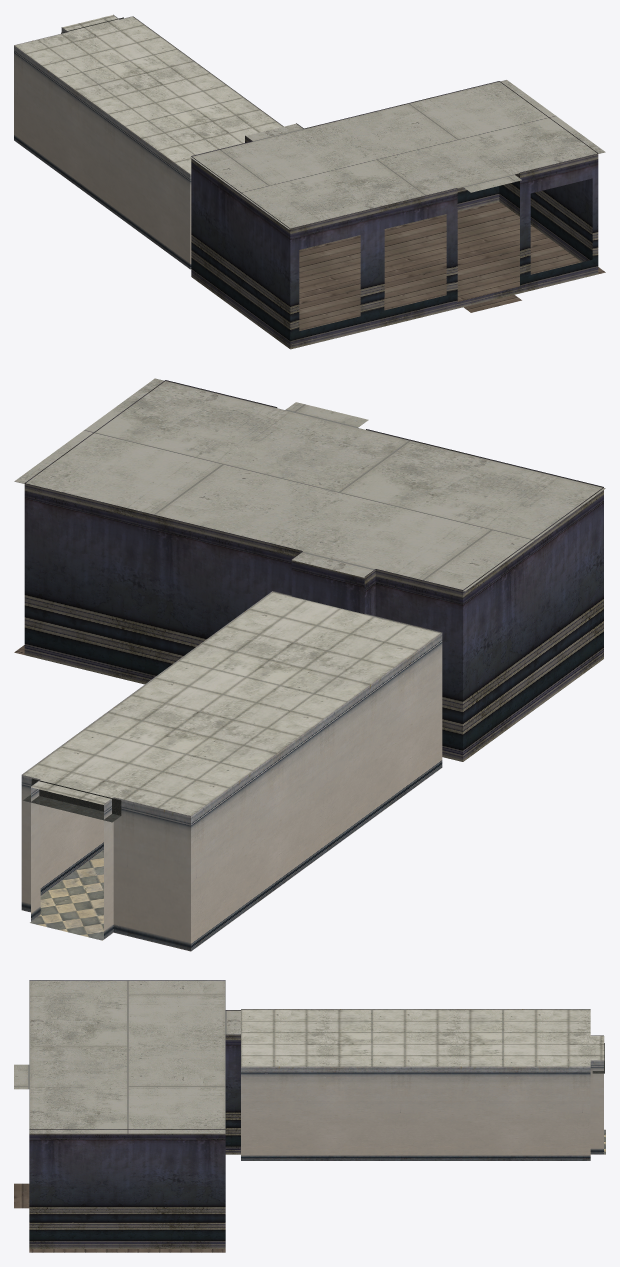
The model's file is Interiors_007.DAE.
The picture shows the model from 3 angles, top to bottom: view 1: azimuth 30°, elevation 25°; view 2: azimuth 150°, elevation 25°; view 3: azimuth 270°, elevation 25°; orthographic projection. The views are drawn at different scales.
Parts seen in each view (by area): view 1: interior_twentyeight100; view 2: interior_twentyeight100; view 3: interior_twentyeight100.
Part boxes in pixels (bbox=[...]): interior_twentyeight100: bbox=[14, 14, 605, 349]; interior_twentyeight100: bbox=[14, 378, 605, 951]; interior_twentyeight100: bbox=[14, 980, 605, 1252].
Size of the model in its own units: 995 by 1624 by 363.
